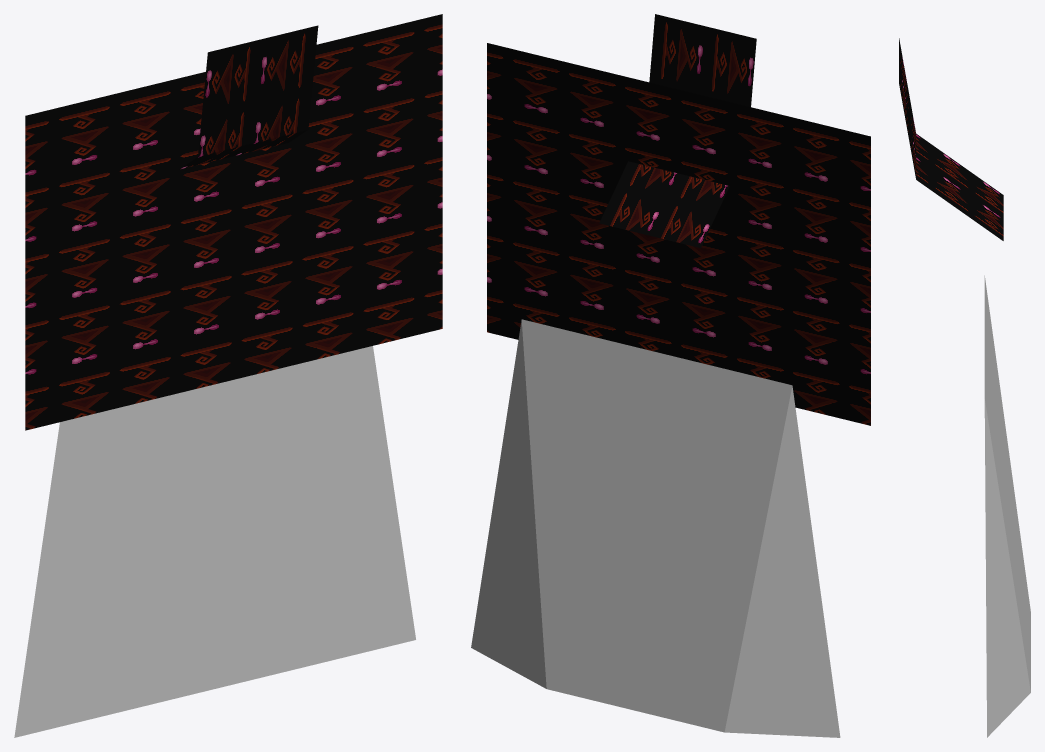
The model's file is clo_skirt00.gltf.
3 renders of one model, left to right at view 1: azimuth 30°, elevation 25°; view 2: azimuth 150°, elevation 25°; view 3: azimuth 270°, elevation 25°, orthographic. The views are drawn at different scales.
Parts seen in each view (by area): view 1: clo_skirt00; view 2: clo_skirt00; view 3: clo_skirt00.
Part boxes in pixels (box(x1,y1,x2,y2)): clo_skirt00: box(14, 14, 442, 737); clo_skirt00: box(471, 14, 870, 737); clo_skirt00: box(899, 38, 1030, 737).
Size of the model in its own units: 0.5034 by 0.7932 by 0.1602.
Materials: 2 (1 with a texture image).
